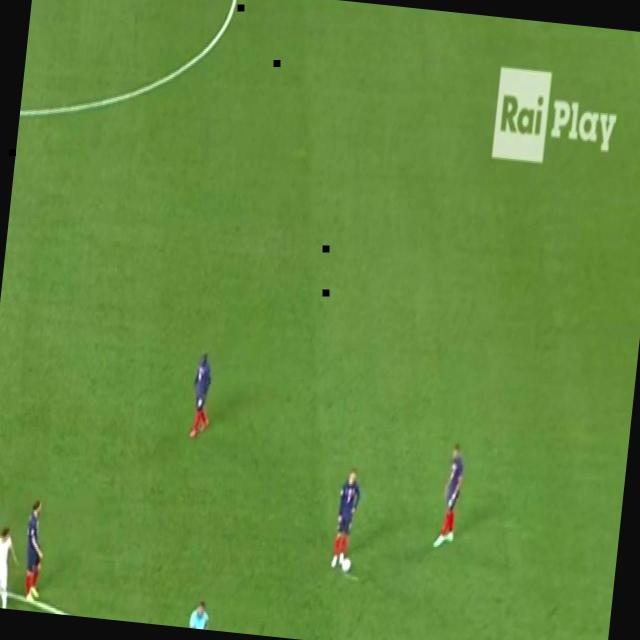ball: (337, 550, 355, 578)
player-white: (14, 494, 54, 612), (431, 433, 469, 553), (329, 462, 364, 576), (184, 343, 218, 450), (0, 518, 24, 610), (185, 596, 213, 630)
